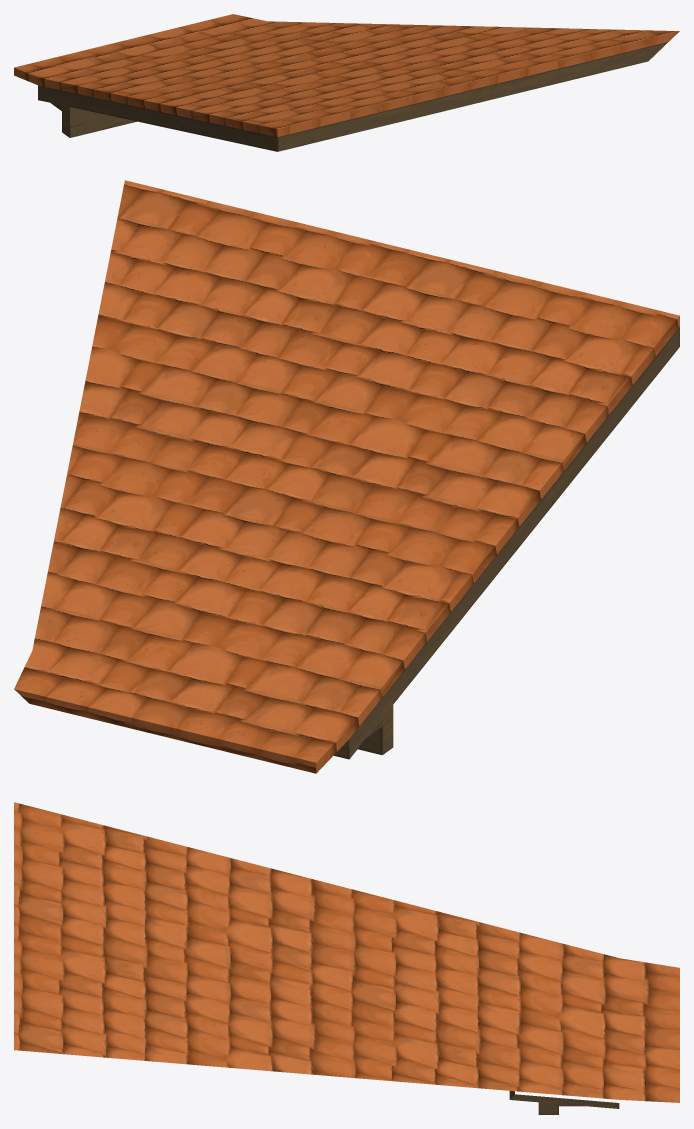
File: SM_building_roof_12.glb
3 views of the same model, one above another, from view 1: azimuth 30°, elevation 25°; view 2: azimuth 150°, elevation 25°; view 3: azimuth 270°, elevation 25° (orthographic). The views are drawn at different scales.
Parts seen in each view (by area): view 1: SM_building_roof_12; view 2: SM_building_roof_12; view 3: SM_building_roof_12.
Part boxes in pixels (x1=…): SM_building_roof_12: x1=14, y1=14, x2=679, y2=151; SM_building_roof_12: x1=14, y1=180, x2=679, y2=773; SM_building_roof_12: x1=14, y1=802, x2=679, y2=1114.
Size of the model in its own units: 5.82 by 2.22 by 6.6.
Materials: 3 (3 with a texture image).
